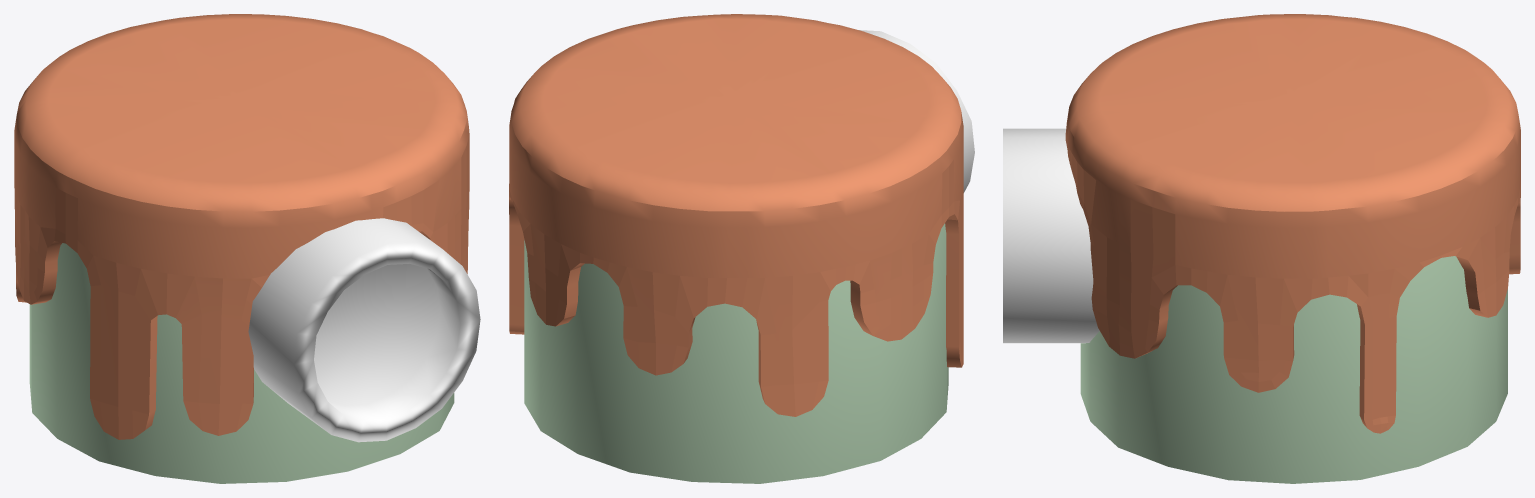
Rendered from Shooter_2.fbx.
3 renders of one model, left to right at view 1: azimuth 30°, elevation 25°; view 2: azimuth 150°, elevation 25°; view 3: azimuth 270°, elevation 25°, orthographic.
Parts seen in each view (by area): view 1: Shooter_2; view 2: Shooter_2; view 3: Shooter_2.
Boxes of the visible parts, x1=… form: Shooter_2: x1=14, y1=14, x2=480, y2=483; Shooter_2: x1=509, y1=14, x2=974, y2=483; Shooter_2: x1=1003, y1=14, x2=1520, y2=483.
Bounding box in the file's own units: 400 × 285 × 455.
